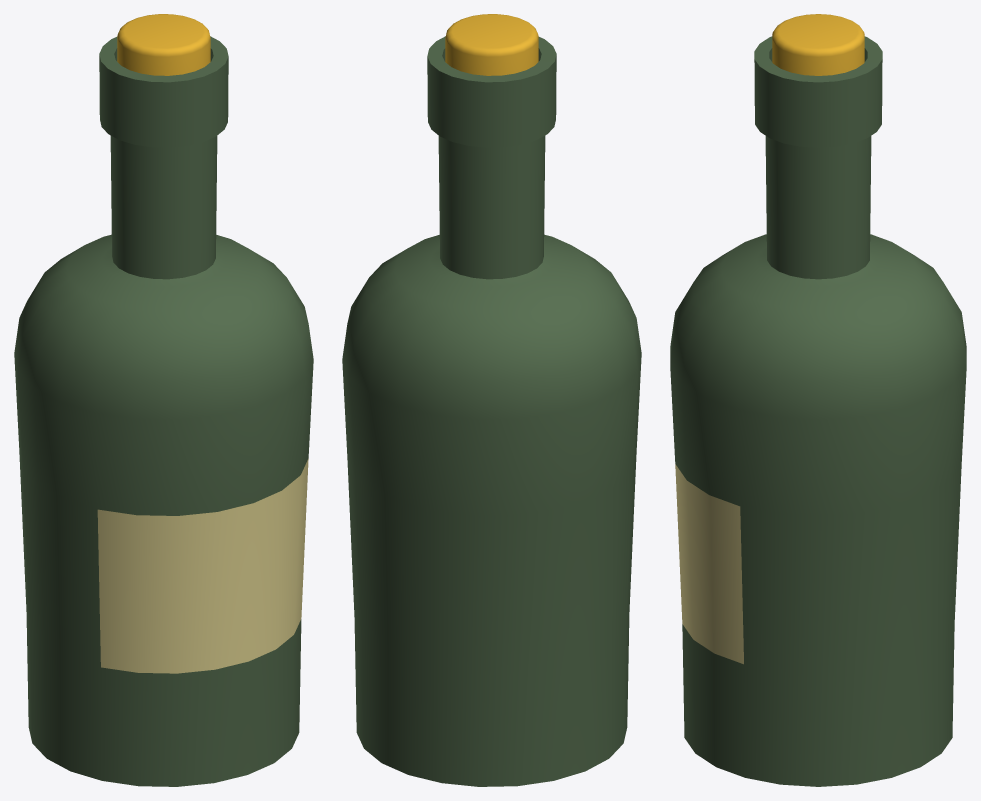
Rendered from wine-bottle.glb.
3 views of the same model, side by side, from view 1: azimuth 30°, elevation 25°; view 2: azimuth 150°, elevation 25°; view 3: azimuth 270°, elevation 25° (orthographic).
Visible parts, largest first — view 1: Circle; view 2: Circle; view 3: Circle.
Boxes of the visible parts, bbox=[...] form: Circle: bbox=[14, 14, 313, 786]; Circle: bbox=[342, 14, 641, 786]; Circle: bbox=[670, 14, 966, 786].
Bounding box in the file's own units: 0.144 × 0.3704 × 0.1426.
